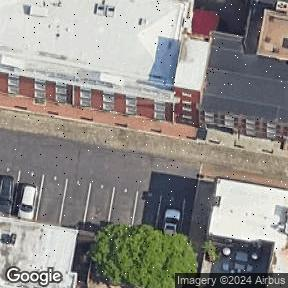vegetation: (92, 224, 197, 288)
